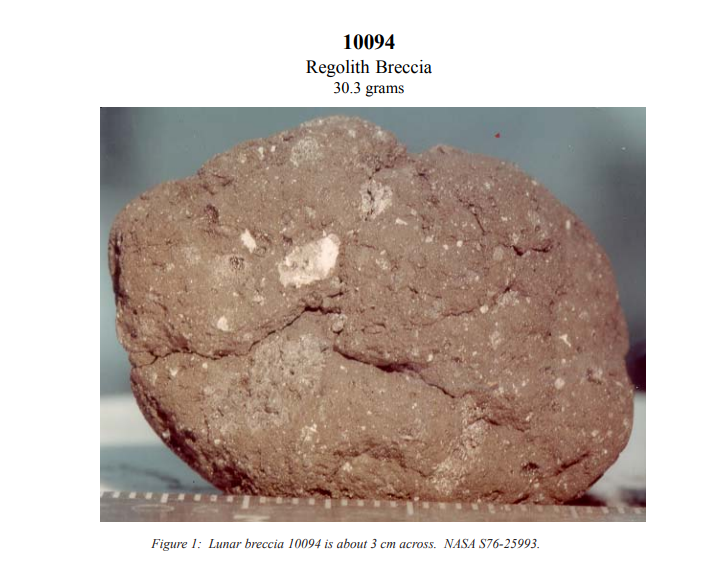Breccia: (93, 105, 637, 508)
